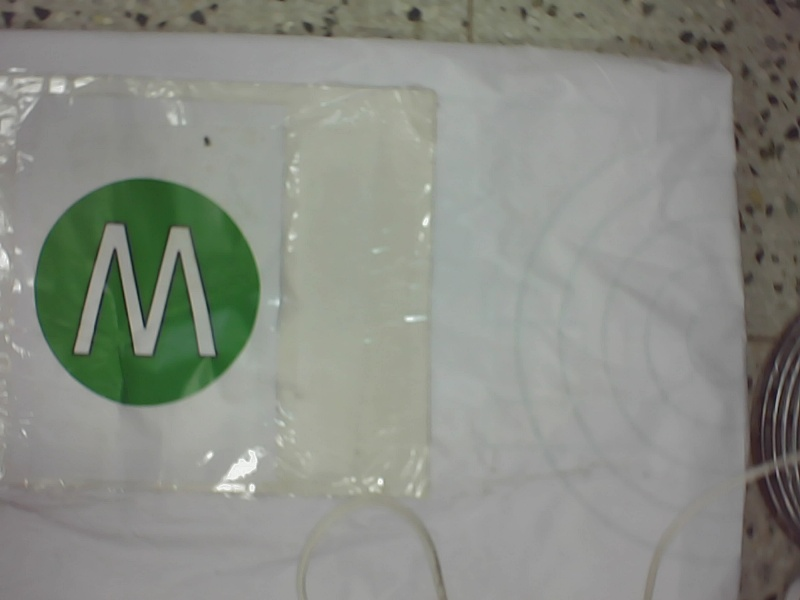areaB: (28, 174, 269, 410)
